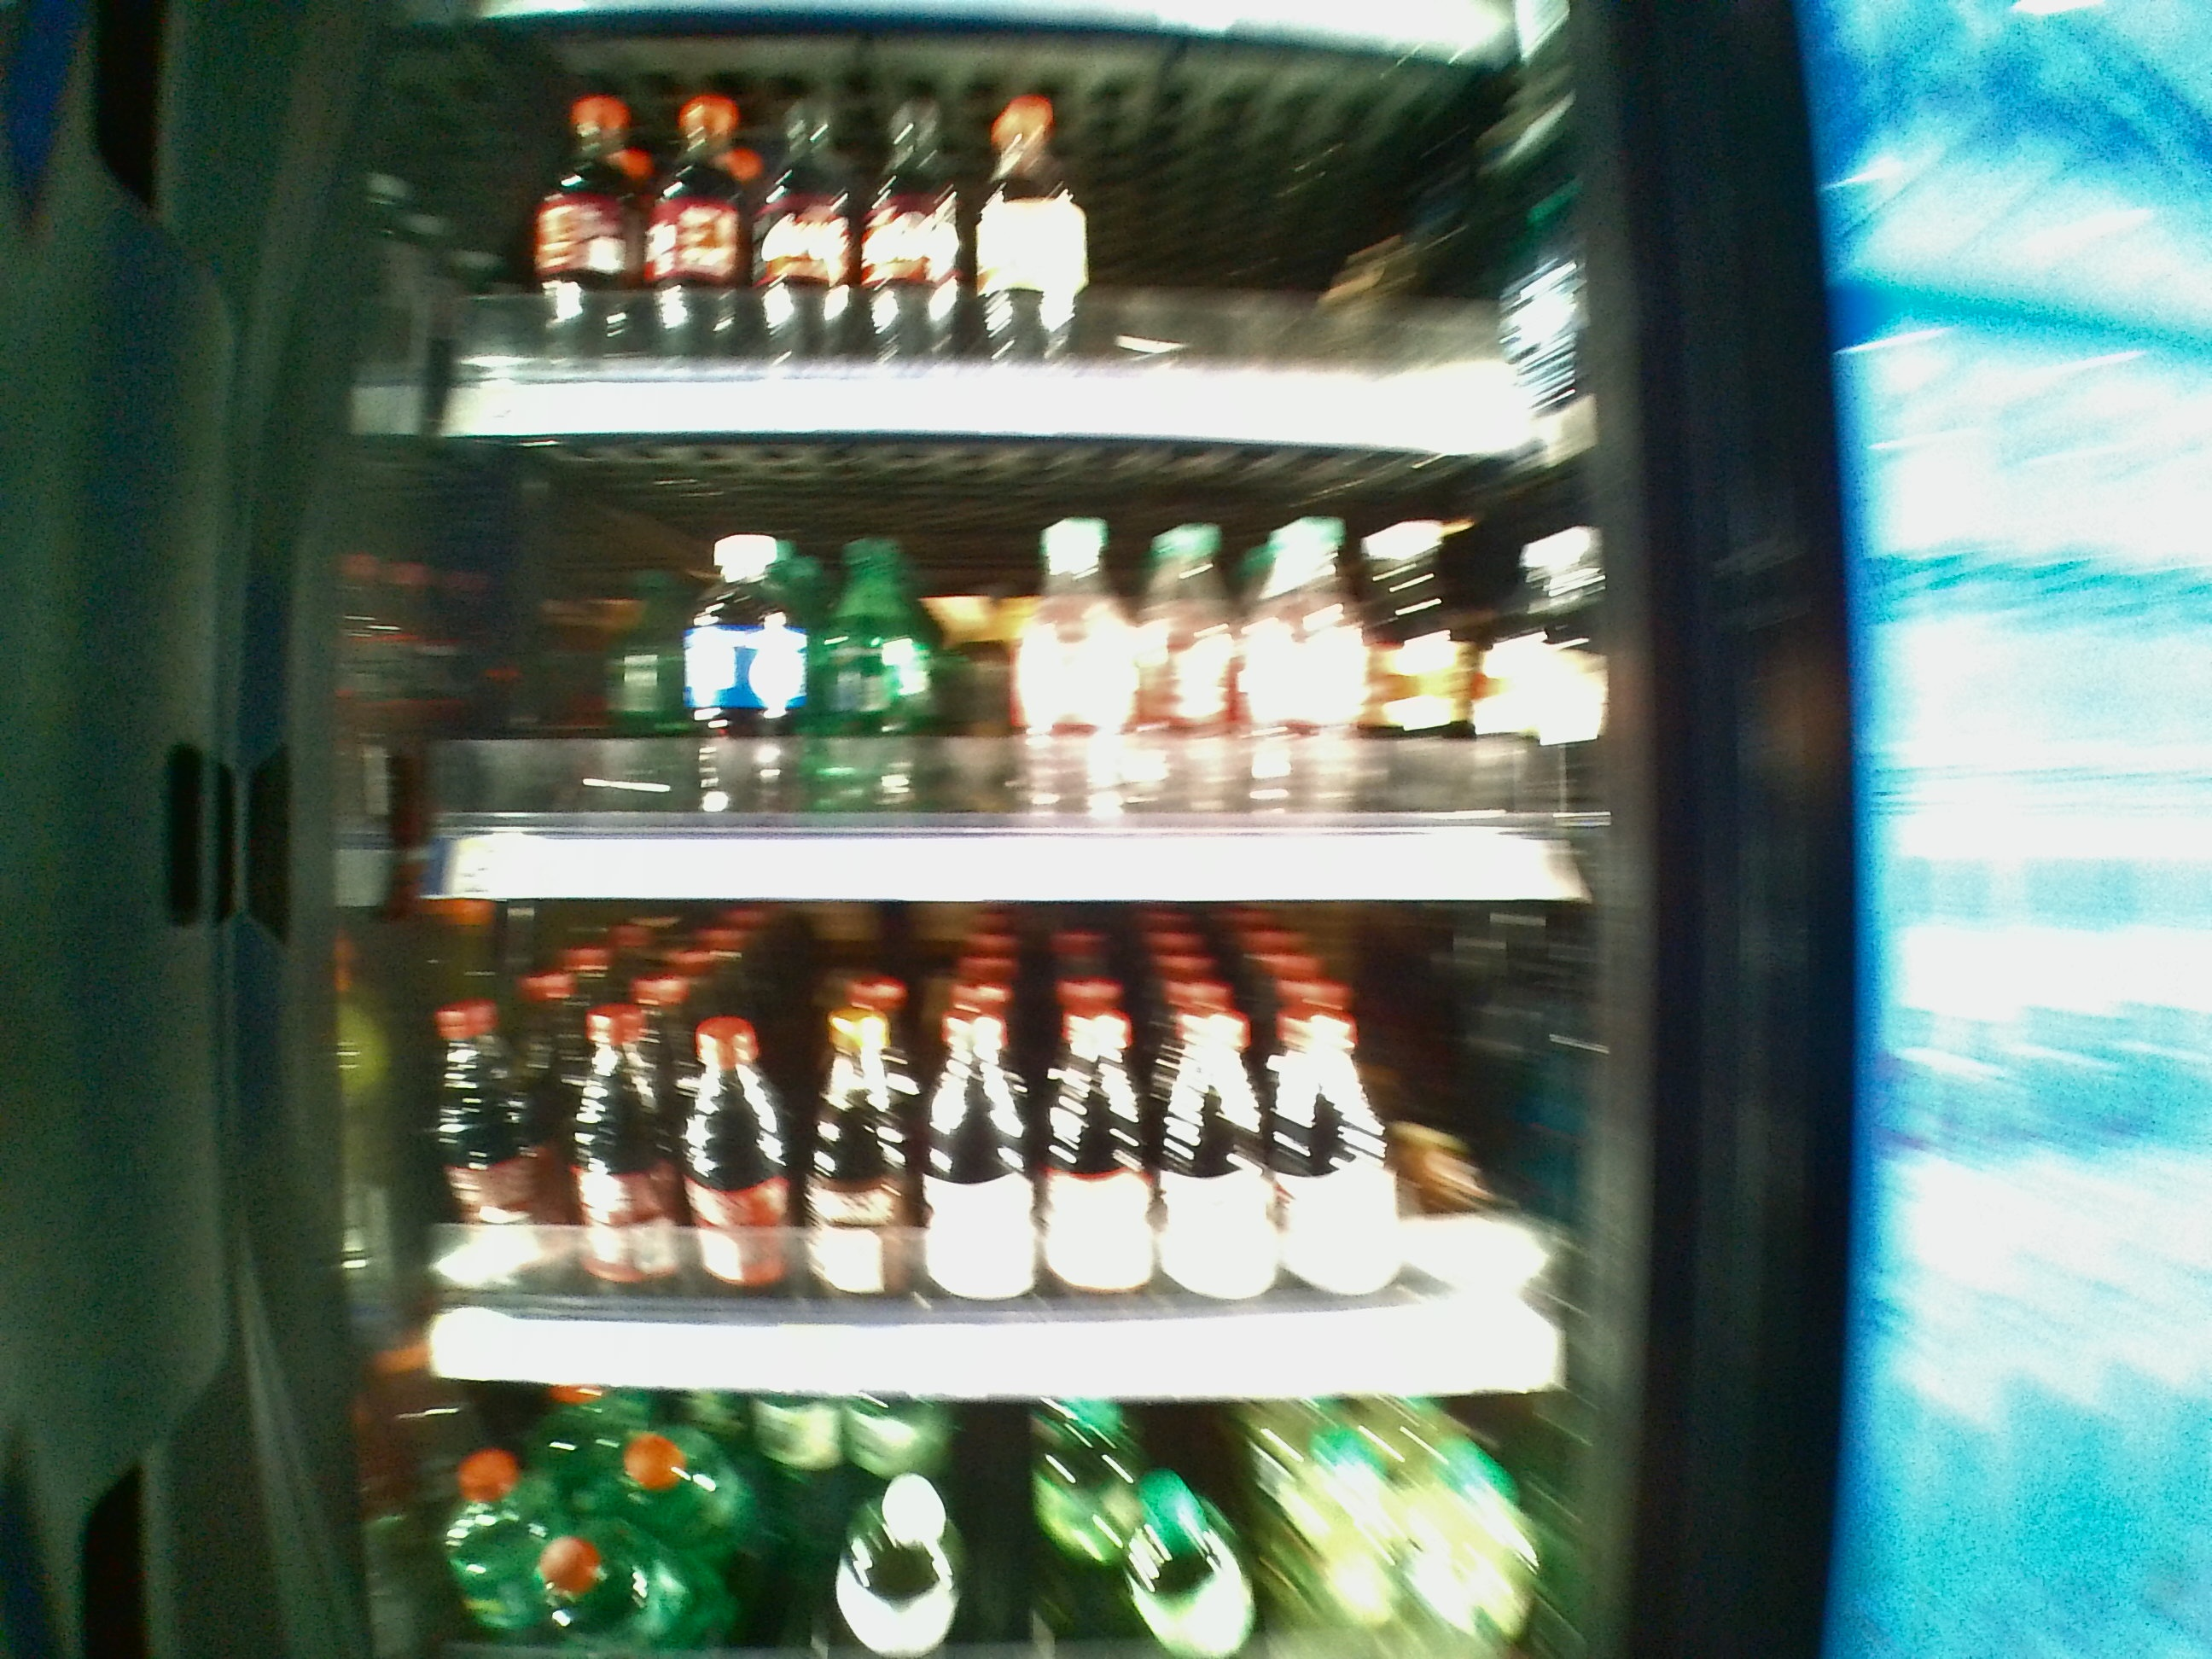shelf: (420, 915, 1576, 1389), (427, 441, 1569, 903)
